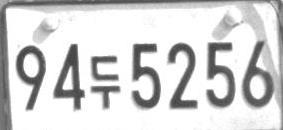2: (167, 42, 198, 110)
4: (53, 43, 85, 110)
5: (205, 41, 236, 108), (131, 42, 161, 109)
6: (241, 40, 275, 108)
9: (15, 44, 47, 112)
두: (90, 54, 120, 109)
